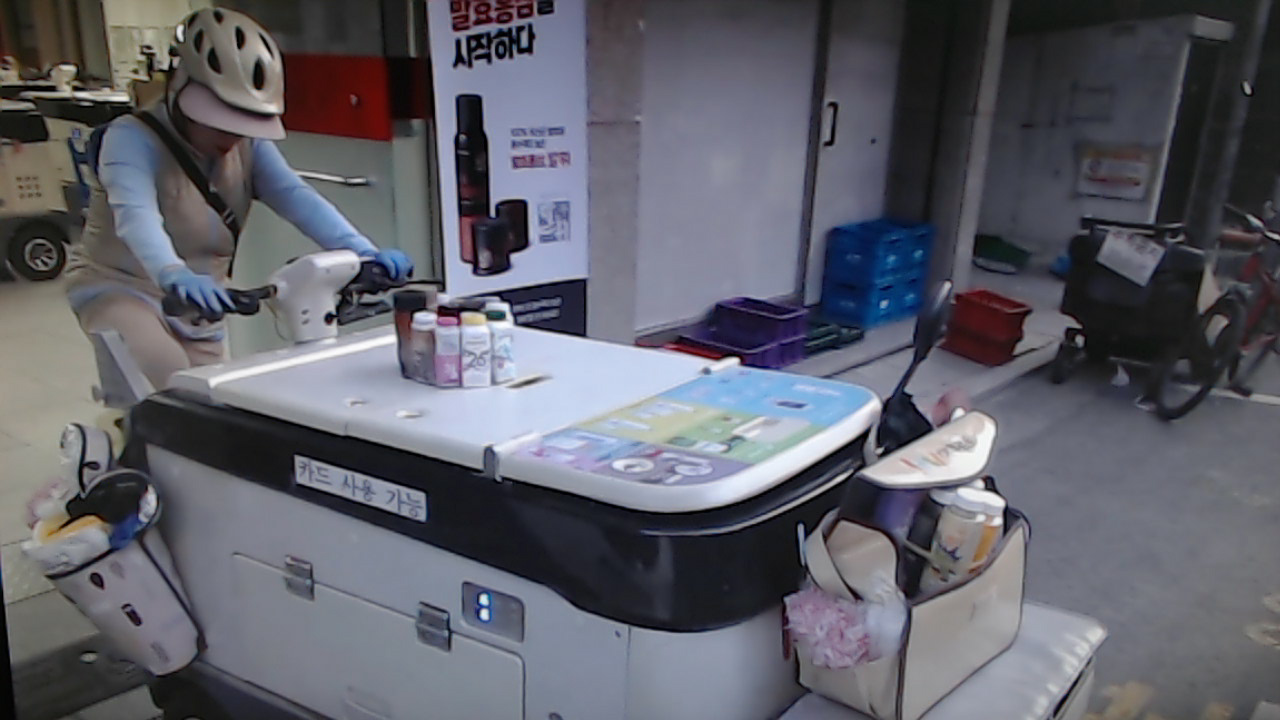Yakurut: (73, 12, 423, 401)
